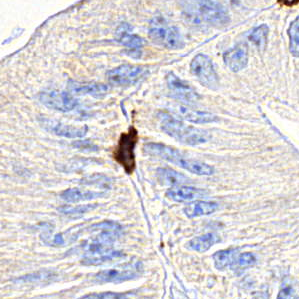Lymphocyte: (115, 128, 140, 173)
